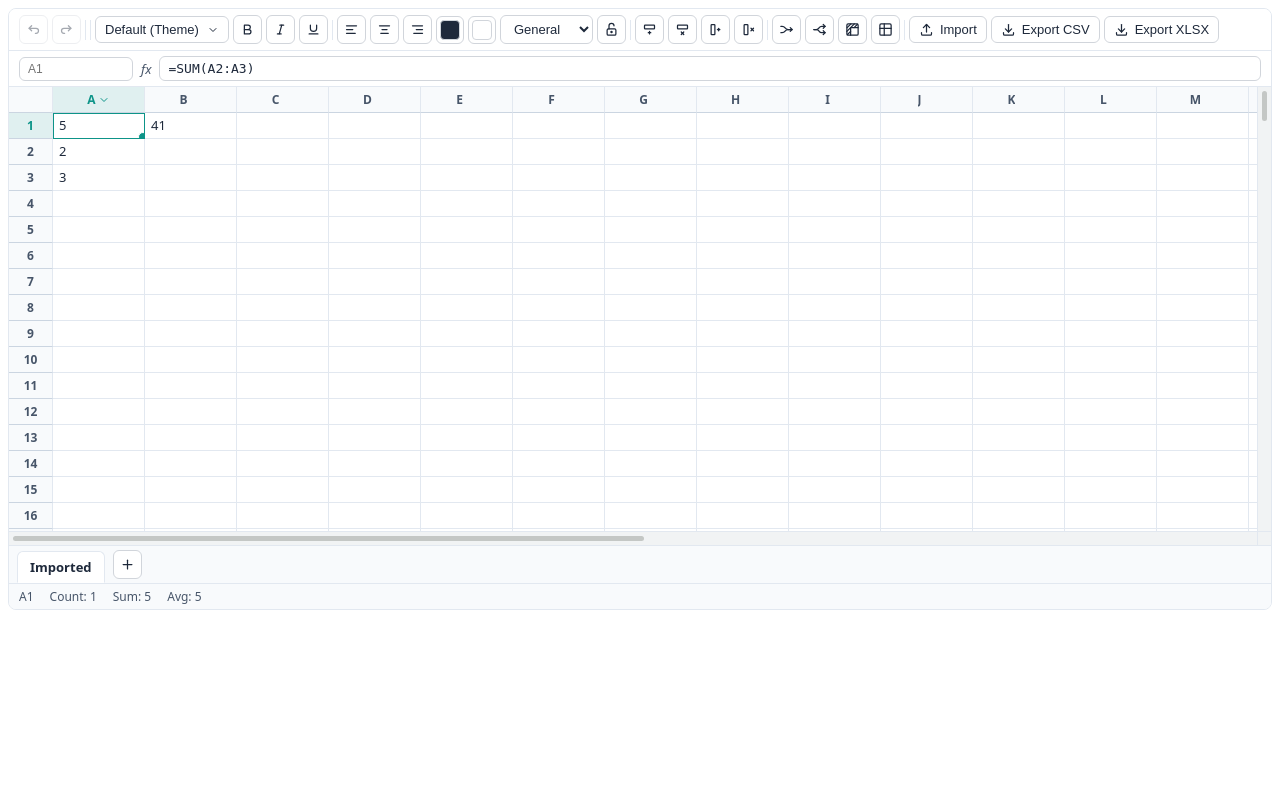
Test: a formula the engine does not implement › stops standing in once the user replaces the formula
Press the mouse on the cell "41" at {"x": 191, "y": 126}, box [145,113,237,139]
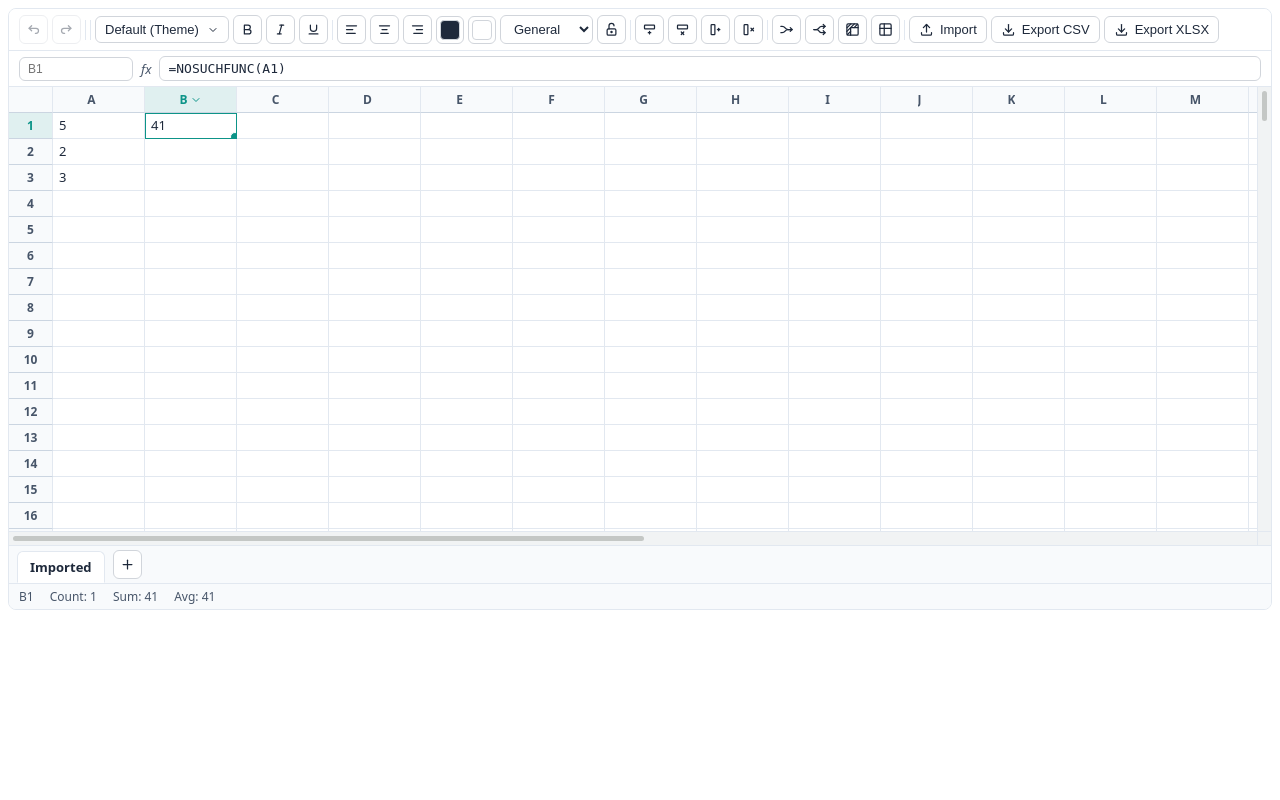
Double-click the cell "41" at {"x": 191, "y": 126}, box [145,113,237,139]
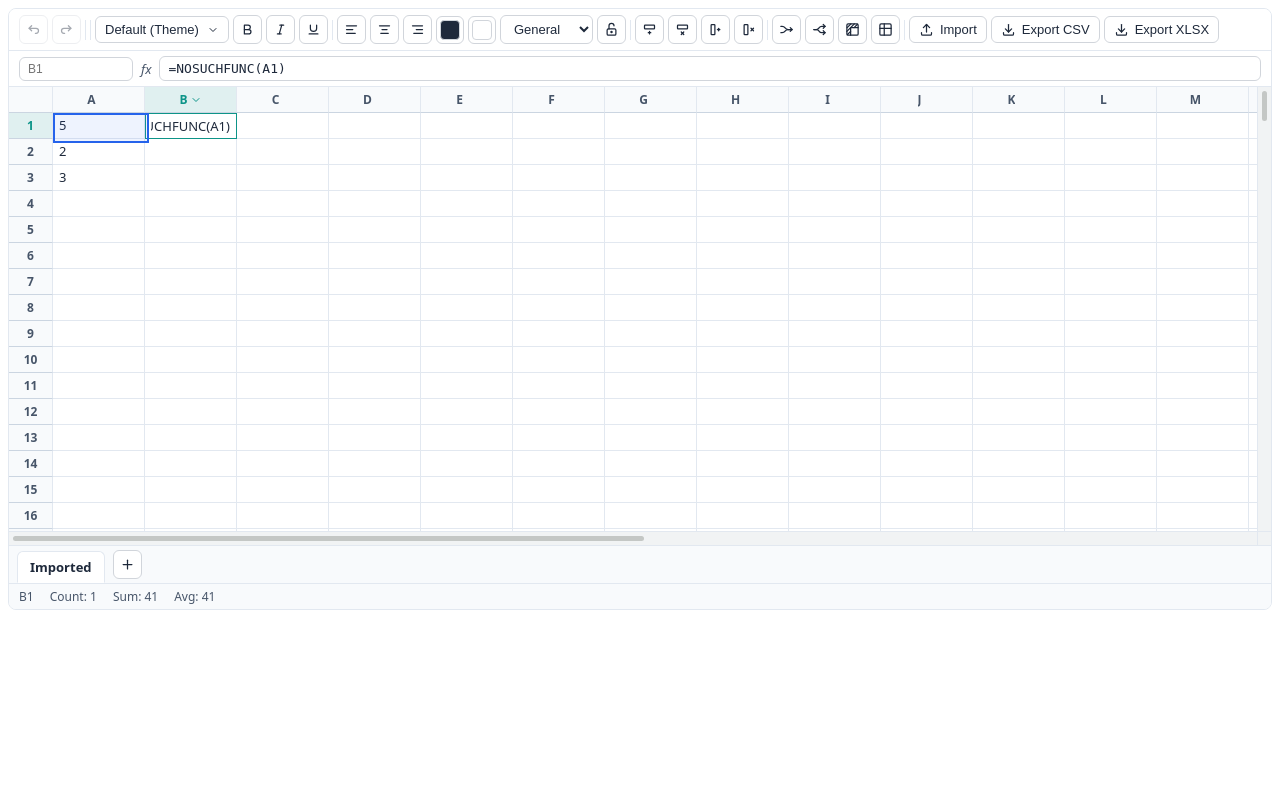
Replace the text in the field named "formula" with "=OTHERBADFUNC(1)" at {"x": 710, "y": 68}, box [159,56,1261,81]
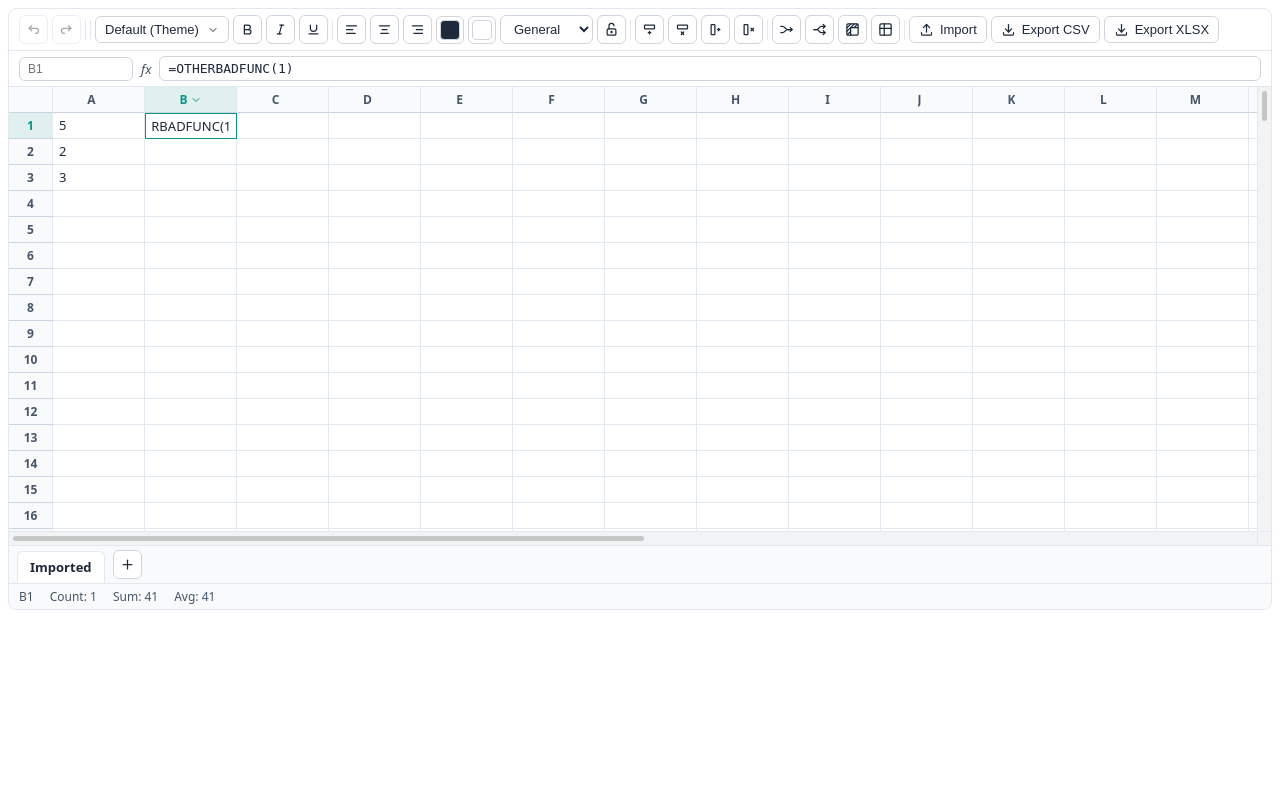
Press Enter in the field named "formula", box [159,56,1261,81]
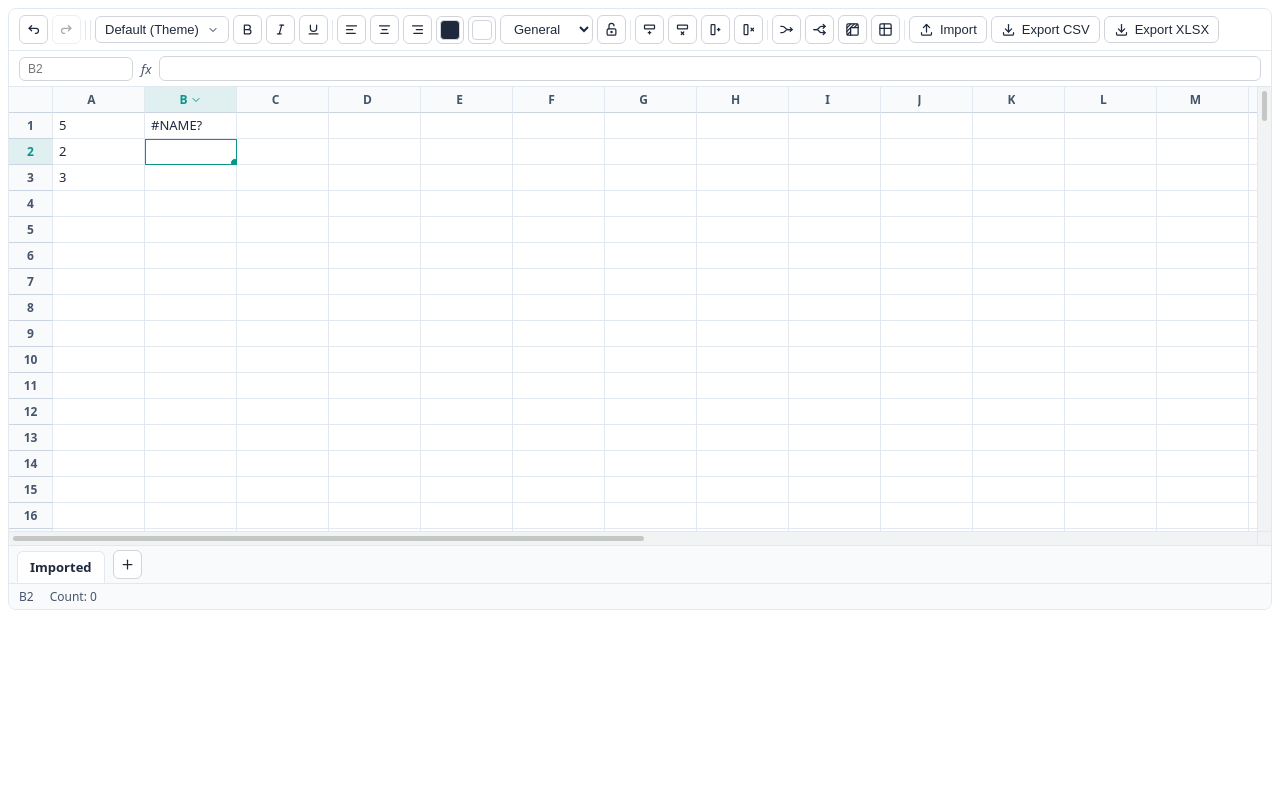
Result: the cell "#NAME?" is shown at [145,113,237,139]
